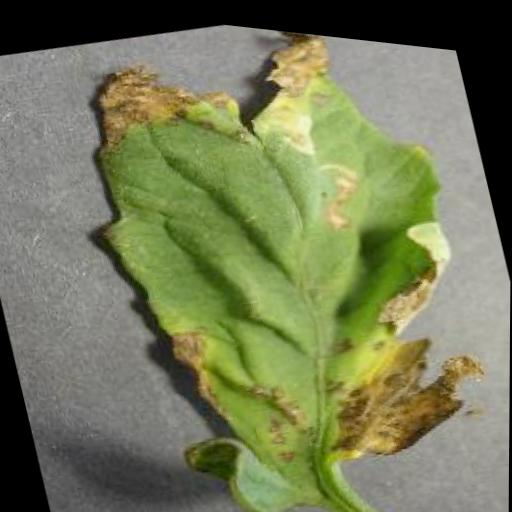Bacterial Spot: (53, 5, 512, 512)
